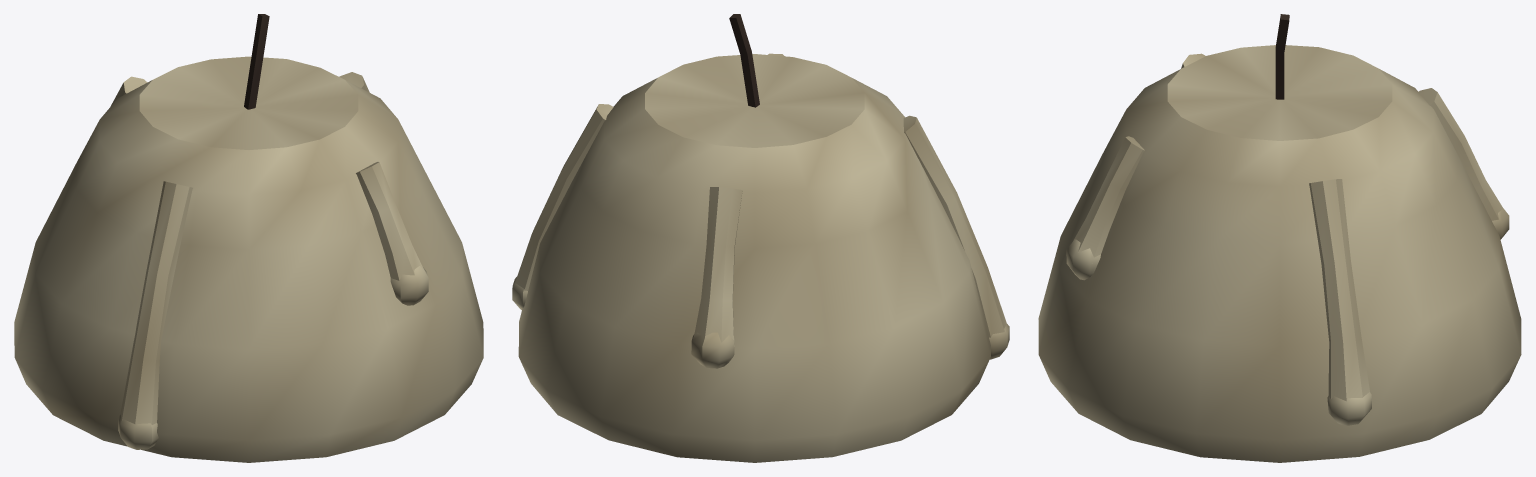
Rendered from candle-wax.glb.
3 views of the same model, side by side, from view 1: azimuth 30°, elevation 25°; view 2: azimuth 150°, elevation 25°; view 3: azimuth 270°, elevation 25° (orthographic). The views are drawn at different scales.
Parts seen in each view (by area): view 1: candle-wax; view 2: candle-wax; view 3: candle-wax.
Boxes of the visible parts, <box> form: candle-wax: <box>14,14,483,462</box>; candle-wax: <box>512,14,1009,462</box>; candle-wax: <box>1038,14,1521,462</box>.
Size of the model in its own units: 0.0948 by 0.0763 by 0.0934.
